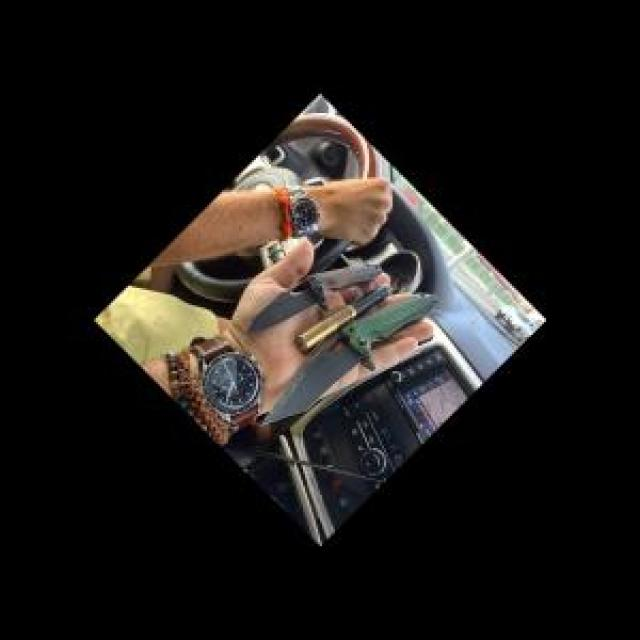knife: (260, 292, 446, 431), (243, 262, 385, 342)
